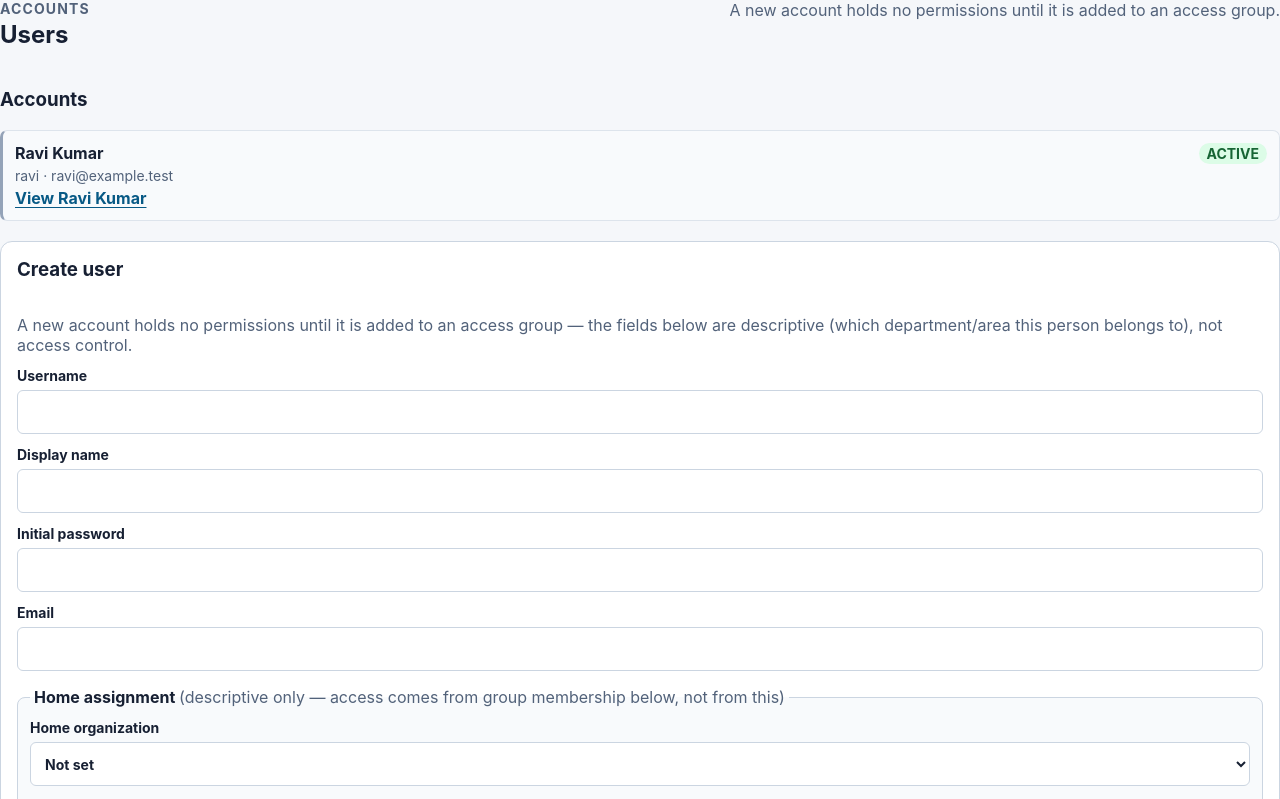
Test case: shows an error when removing a group membership fails
Click the button "View Ravi Kumar": [81, 198] box [15,188,146,208]
(page scrolled)
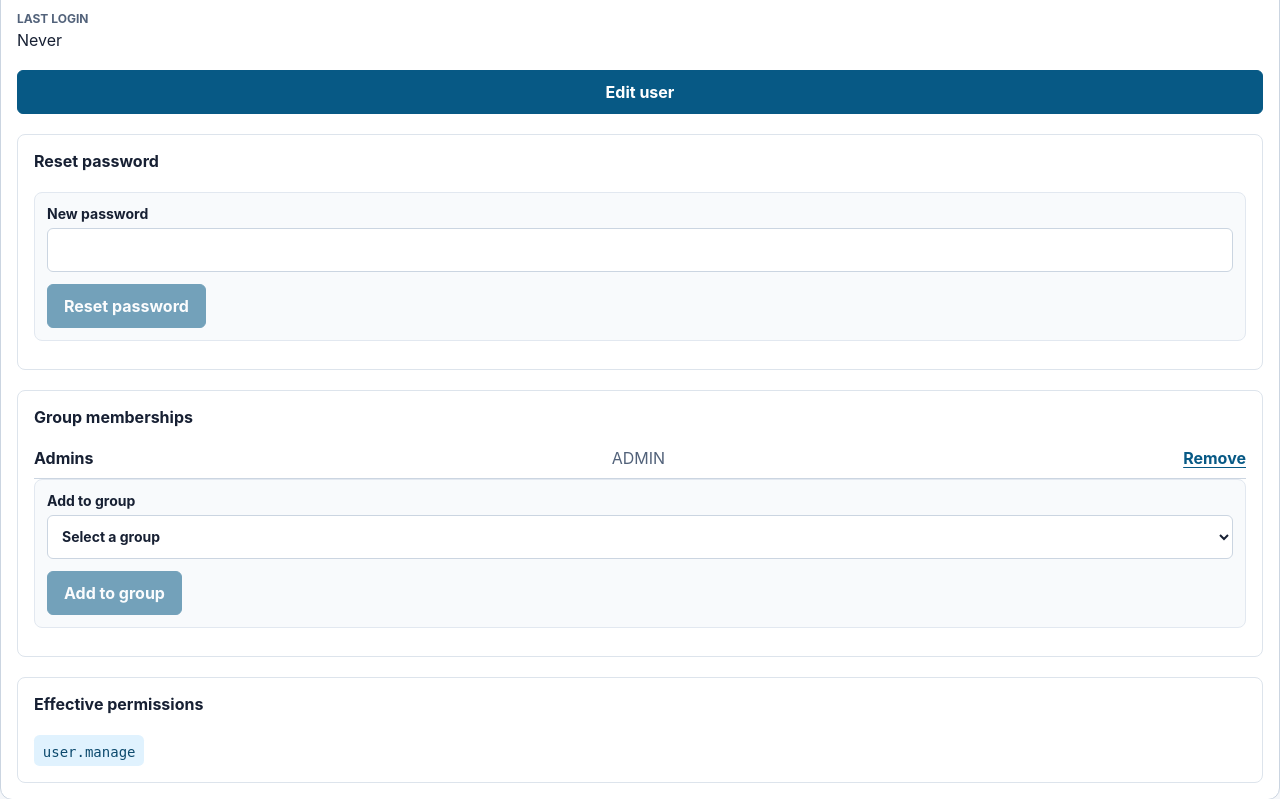
Click the button "Remove": [1215, 458] box [1183,448,1246,468]
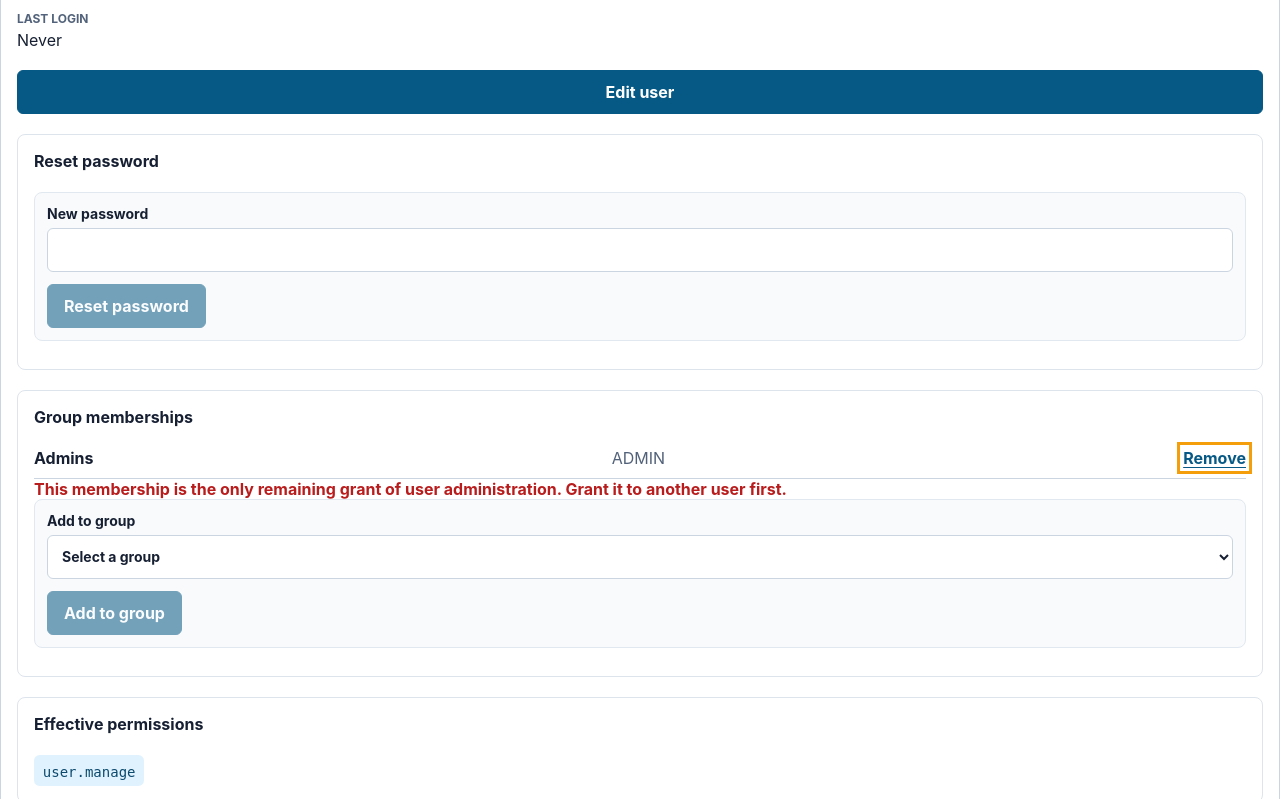
Expected: the text "only remaining grant of user administration" is shown, [34,479,787,499]
